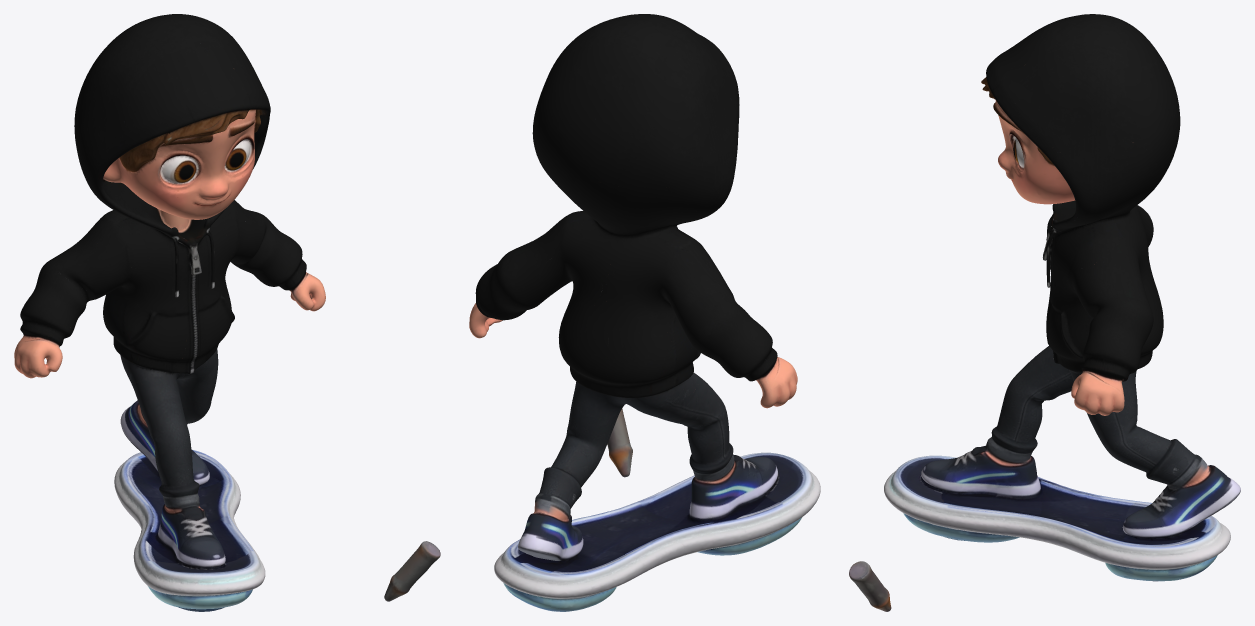
File: player_game.glb
3 views of the same model, side by side, from view 1: azimuth 30°, elevation 25°; view 2: azimuth 150°, elevation 25°; view 3: azimuth 270°, elevation 25° (orthographic). The views are drawn at different scales.
Parts seen in each view (by area): view 1: mesh_node; view 2: mesh_node; view 3: mesh_node.
Part boxes in pixels (left/top/right/bottom): mesh_node: left=14, top=14, right=440, bottom=611; mesh_node: left=469, top=14, right=820, bottom=611; mesh_node: left=849, top=14, right=1240, bottom=611.
Size of the model in its own units: 1.12 by 1.9 by 1.26.
1 material, 1 textured.
